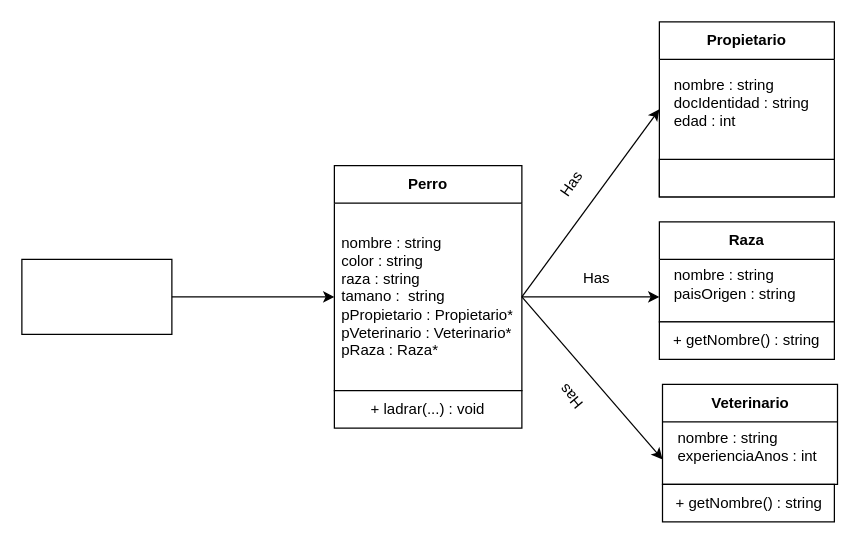
Some shapes in this 860 by 544 pixel diagram are drawn without their labels. Each missing label, with the centre of its shape:
+ mostrarInfo() : string: pixel 746 177
Main.cpp: pixel 96 296
